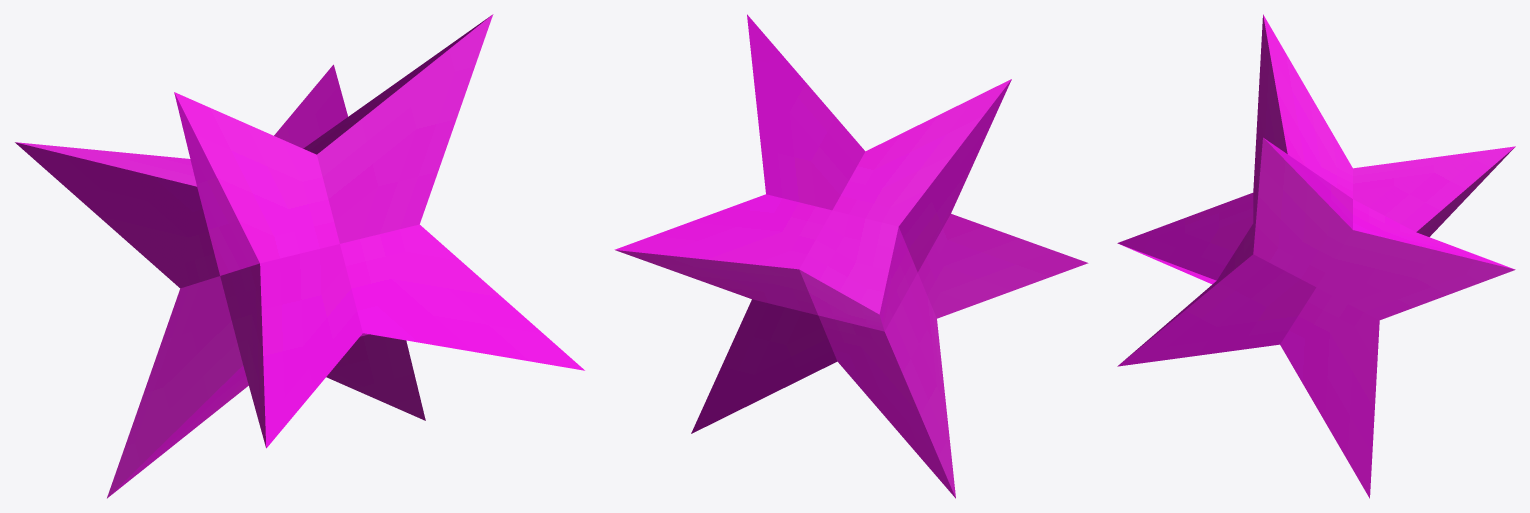
Rendered from sparklie.gltf.
3 views of the same model, side by side, from view 1: azimuth 30°, elevation 25°; view 2: azimuth 150°, elevation 25°; view 3: azimuth 270°, elevation 25° (orthographic). The views are drawn at different scales.
Visible parts, largest first — view 1: Sparklies; view 2: Sparklies; view 3: Sparklies.
Part boxes in pixels (x1,y1,x2,y2): Sparklies: (15, 14, 584, 498); Sparklies: (614, 14, 1088, 498); Sparklies: (1117, 14, 1515, 498).
Size of the model in its own units: 0.04 by 0.0546 by 0.0546.
1 material, 1 textured.
